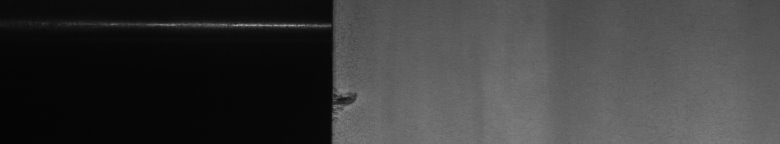hb: (344, 86, 363, 114)
